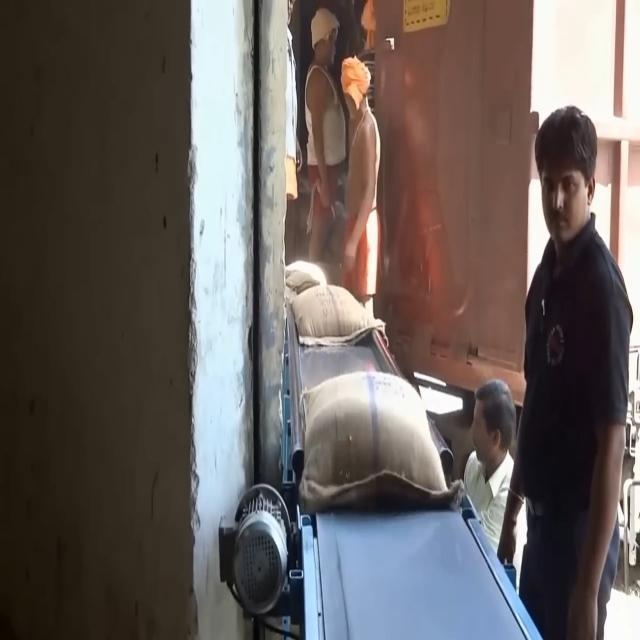gunny_bag: (290, 367, 450, 513), (288, 287, 387, 353)
